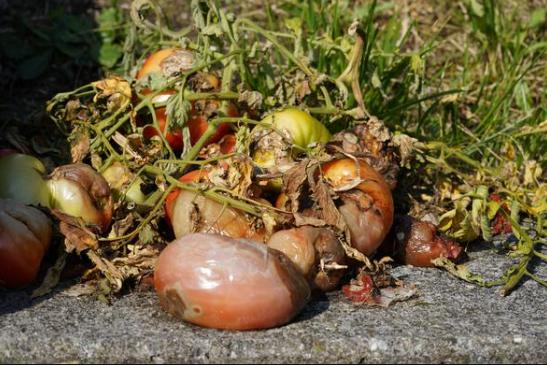organic: (246, 3, 546, 236), (152, 232, 312, 328), (277, 157, 393, 262), (135, 45, 234, 145), (167, 166, 256, 244), (255, 109, 333, 189), (49, 163, 115, 232), (0, 203, 51, 291), (391, 217, 463, 264), (2, 153, 46, 210)
